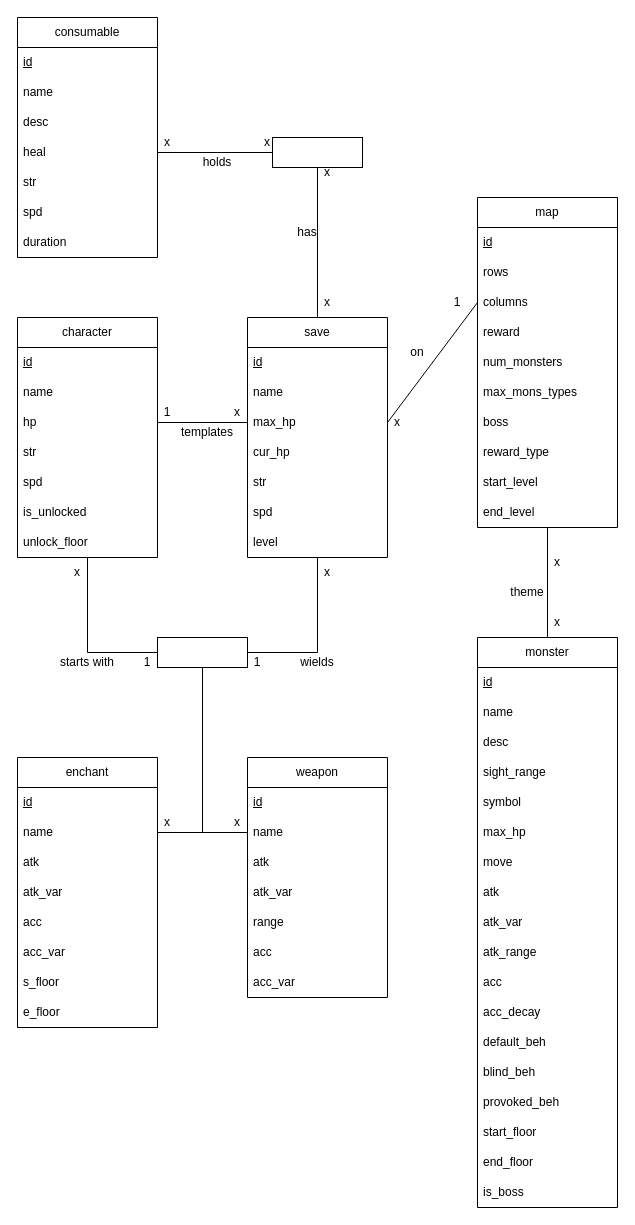
The diagram is 635 pixels wide and 1225 high, and some of its shapes have lost their labels. The centre of each missing label's shape, as x and y in pixels:
"Enchanted weapon" goes at pixel 202 652.
"Inventory" goes at pixel 317 152.
